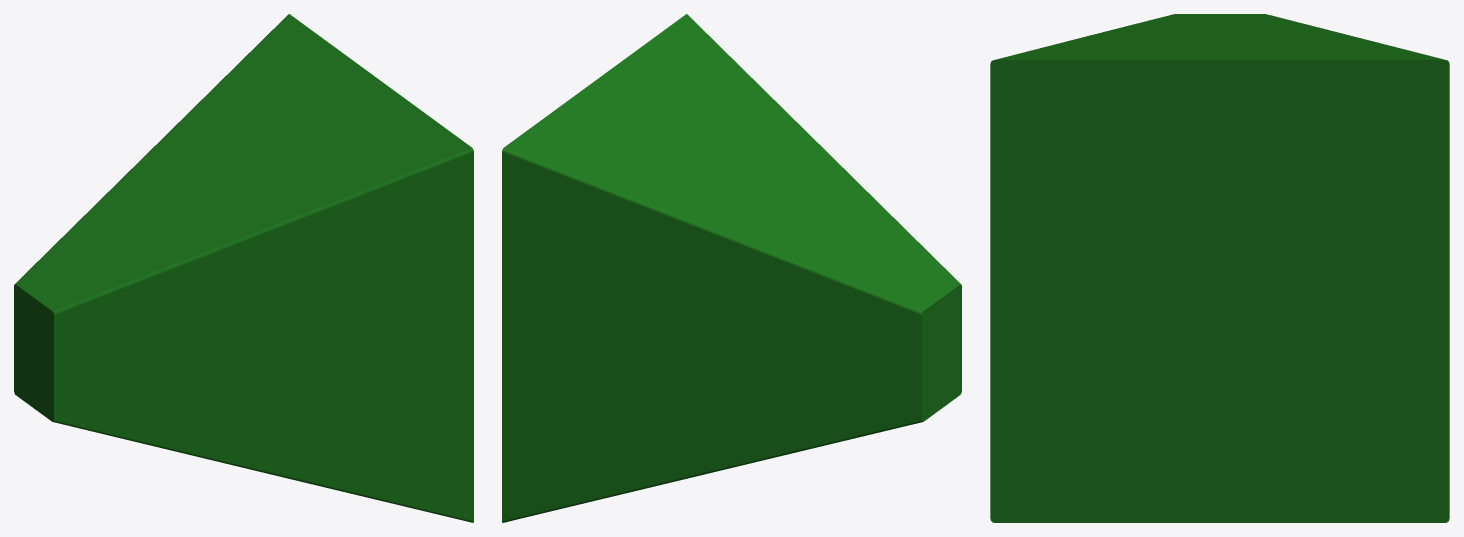
Rendered from low_freq_visual.obj.
3 renders of one model, left to right at view 1: azimuth 30°, elevation 25°; view 2: azimuth 150°, elevation 25°; view 3: azimuth 270°, elevation 25°, orthographic. The views are drawn at different scales.
Visible parts, largest first — view 1: low_freq; view 2: low_freq; view 3: low_freq.
Part boxes in pixels (bbox=[...]): low_freq: bbox=[14, 14, 473, 522]; low_freq: bbox=[502, 14, 961, 522]; low_freq: bbox=[990, 14, 1449, 522].
Size of the model in its own units: 40 by 41.31 by 37.11.
